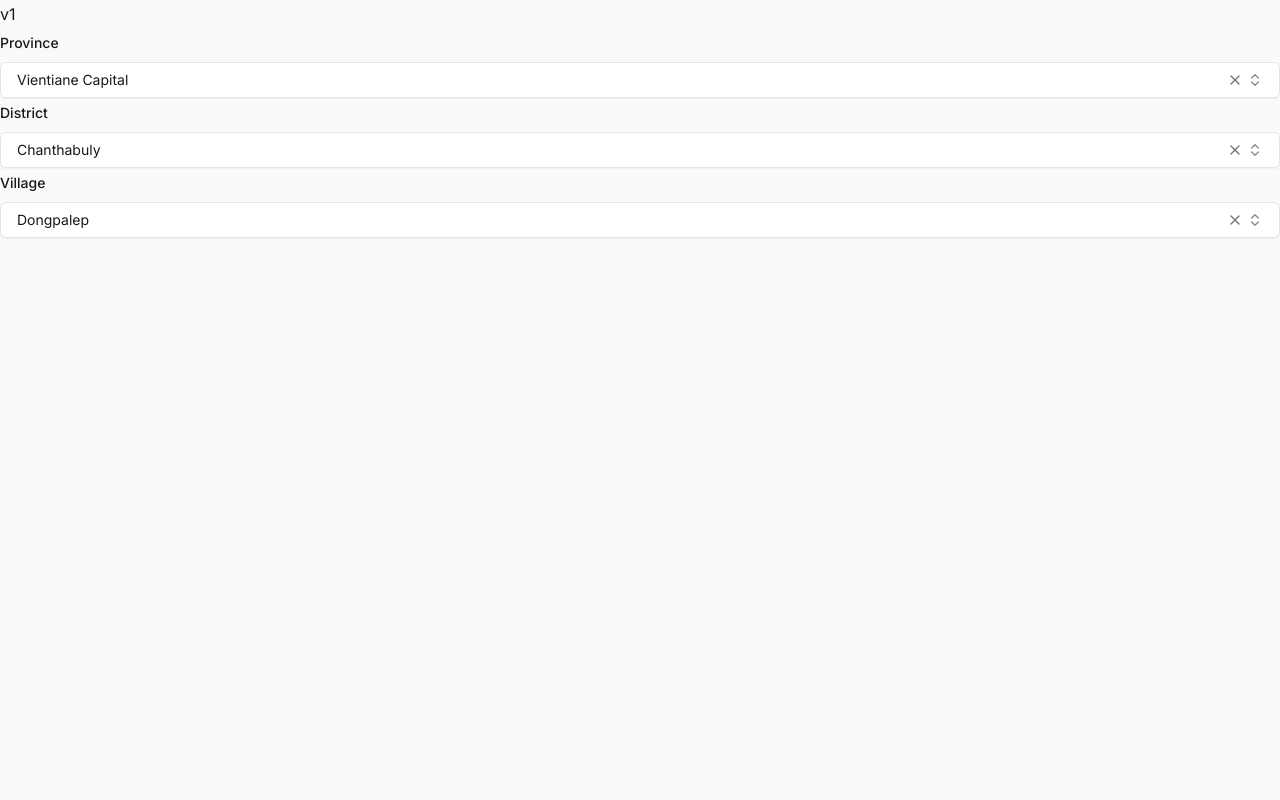
it: VillagePickerField › clears the village on its own without losing the province and district
What coordinates should you click on to do the following:
click the 3rd button named "Remove"
I would click on:
 (1235, 220)
Its box is [1227,212,1243,228].
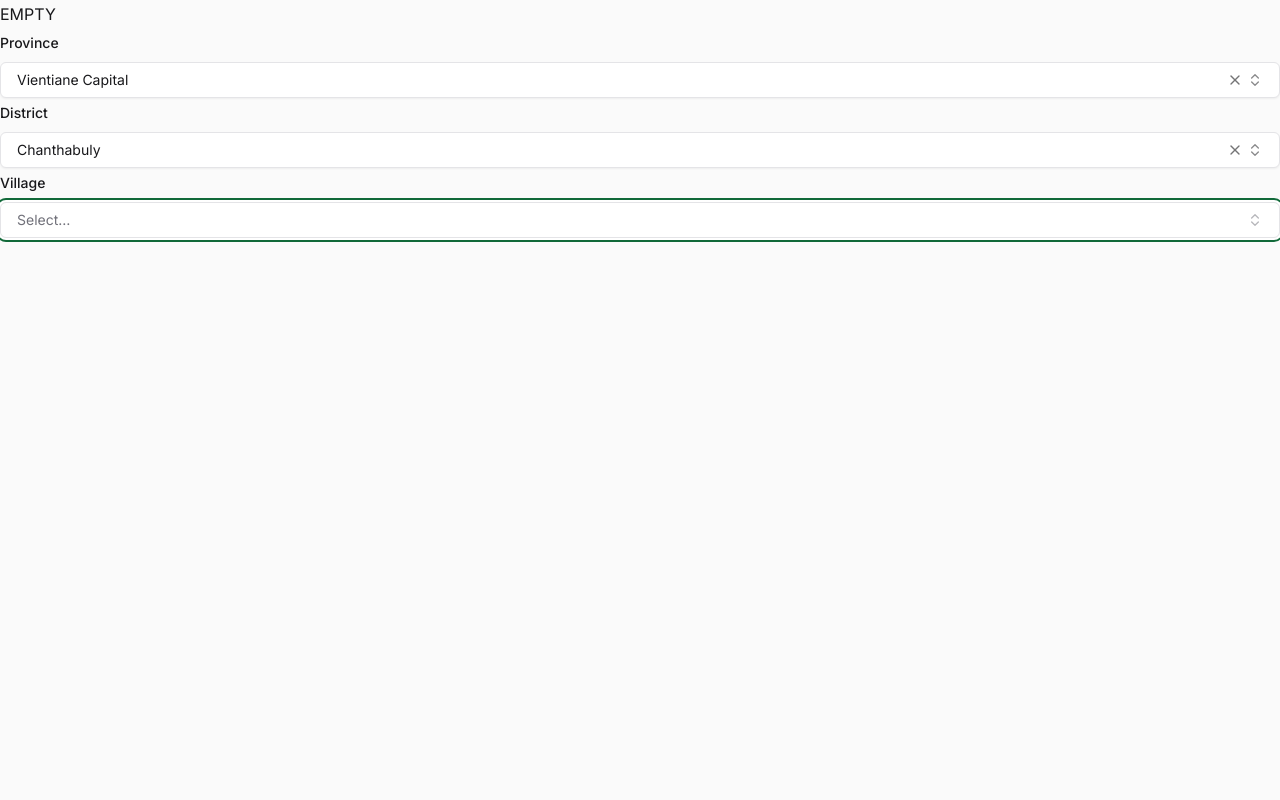
Check: the dropdown labelled "Vientiane Capital" is shown, box [0,62,1279,98]
Check: the text with test id "value" reads "EMPTY", box [0,1,56,27]
What coordinates should you click on to do the following:
click the dropdown labelled "Select…"
I would click on:
 (44, 219)
Its box is [0,202,1279,238].
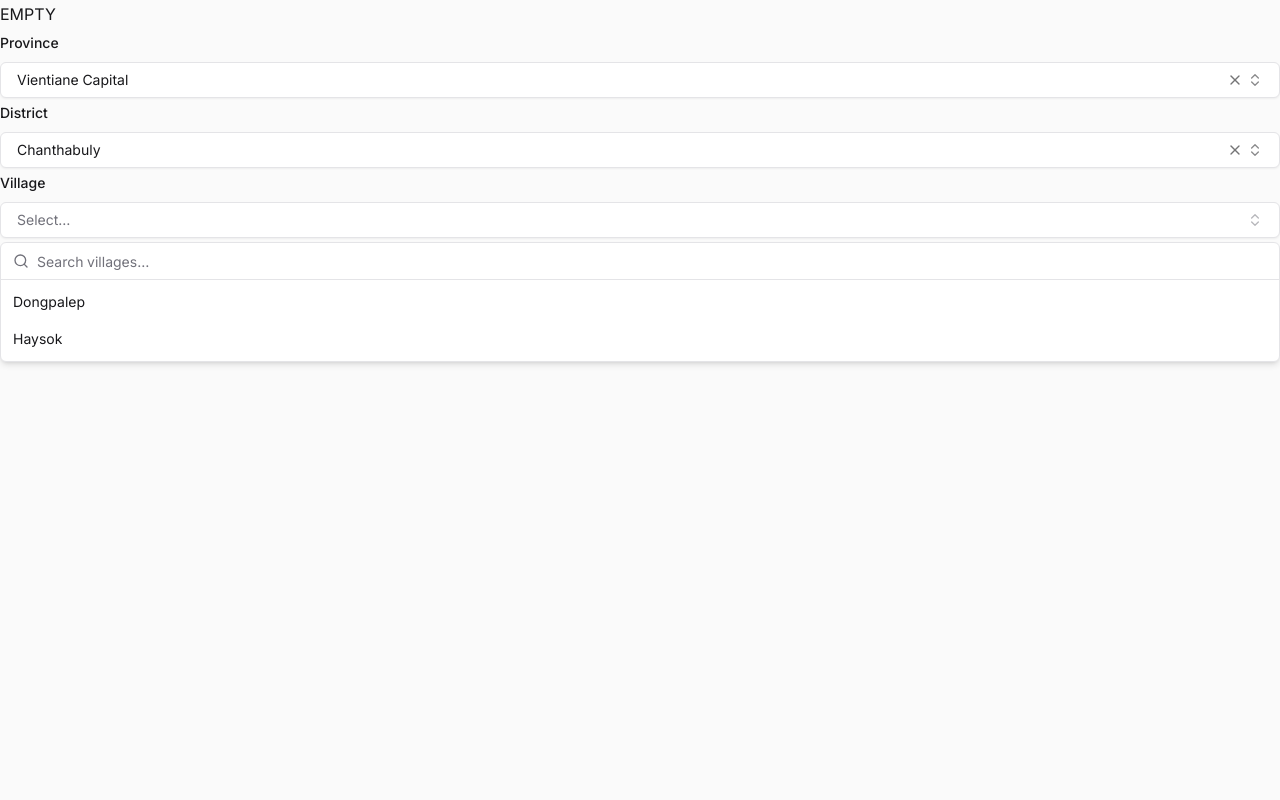
What coordinates should you click on to do the following:
click the button "Haysok"
I would click on:
 (38, 338)
Its box is [5,320,1275,357].
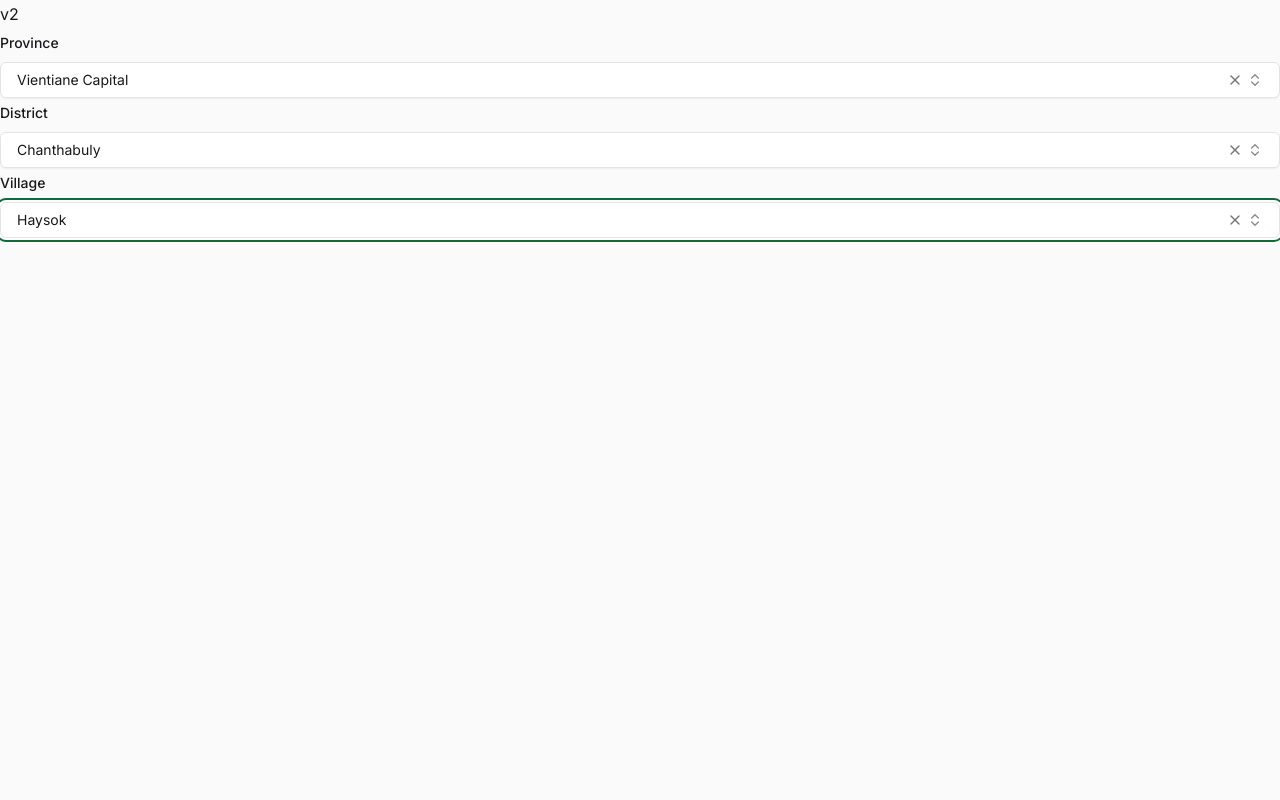
Check: the text with test id "value" reads "v2", box [0,1,19,27]
